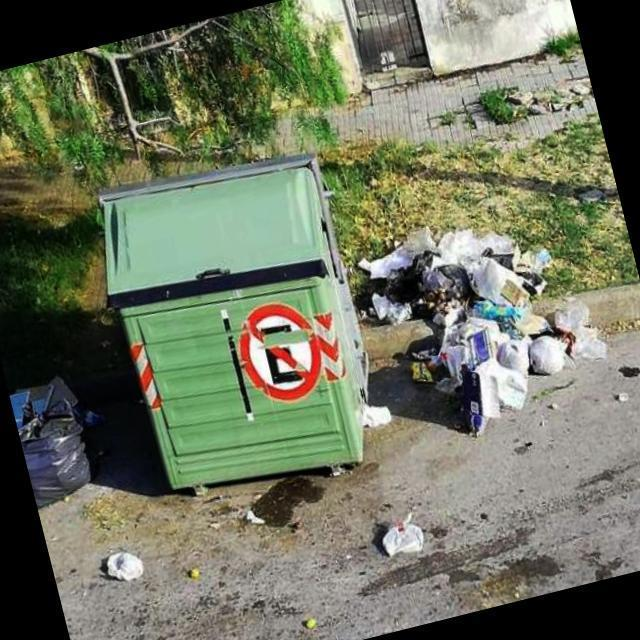garbage: (345, 168, 640, 494), (0, 306, 146, 542), (85, 515, 215, 612), (362, 506, 442, 582), (362, 25, 412, 97), (347, 386, 392, 446)
